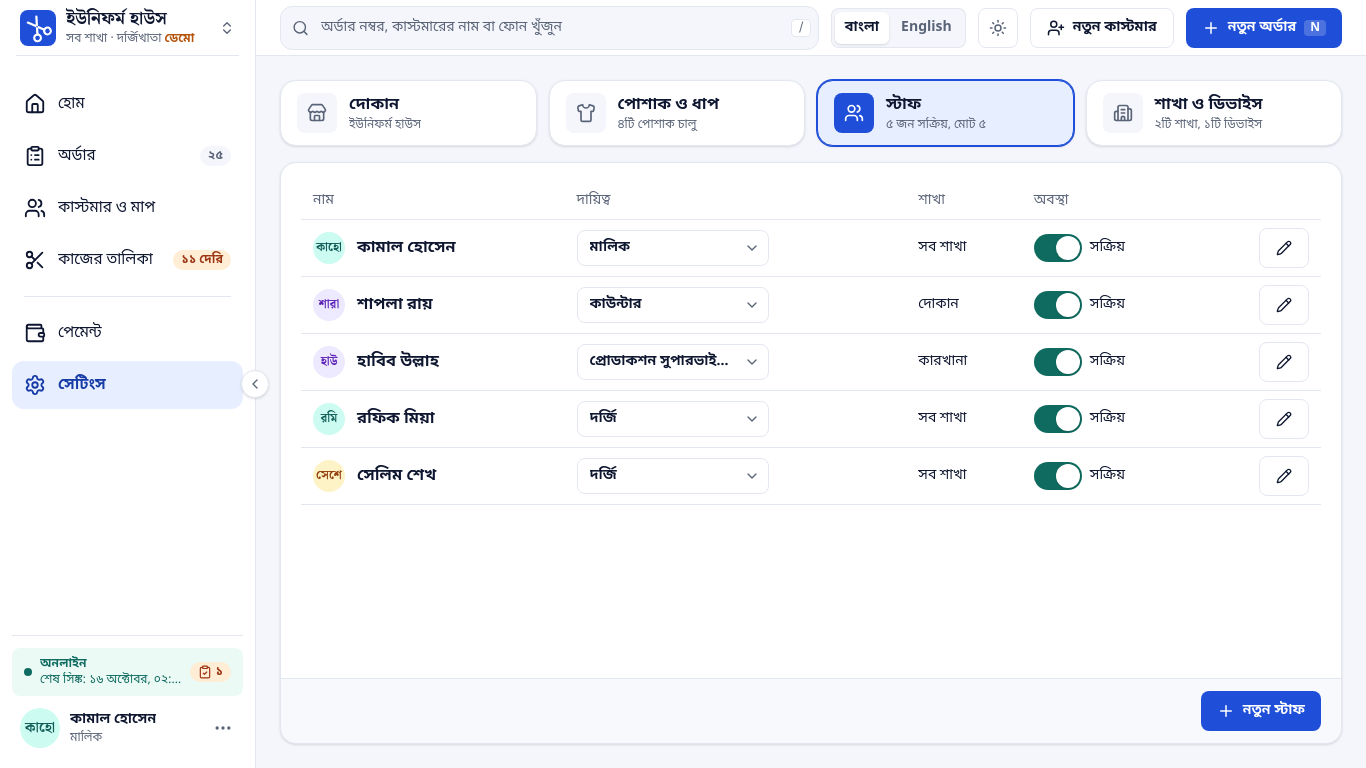
Test case: Desktop staff table › deactivates a person from the table at once, so they can no longer sign in
This screenshot has width=1366, height=768.
Click the switch named "সেলিম শেখ: সক্রিয়". click: (1058, 476)
box: [1034, 462, 1082, 490]
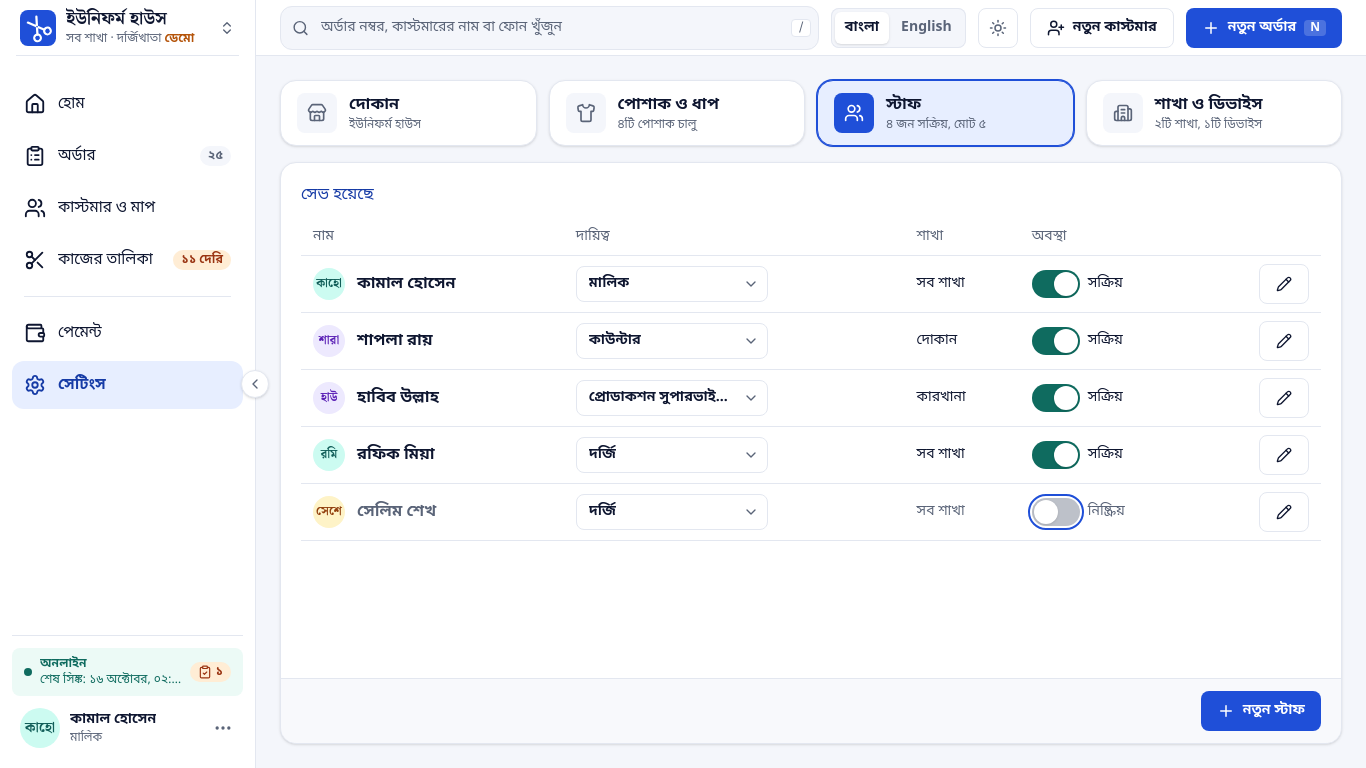
Check: the text "সেভ হয়েছে" is shown, box [301, 184, 374, 206]
